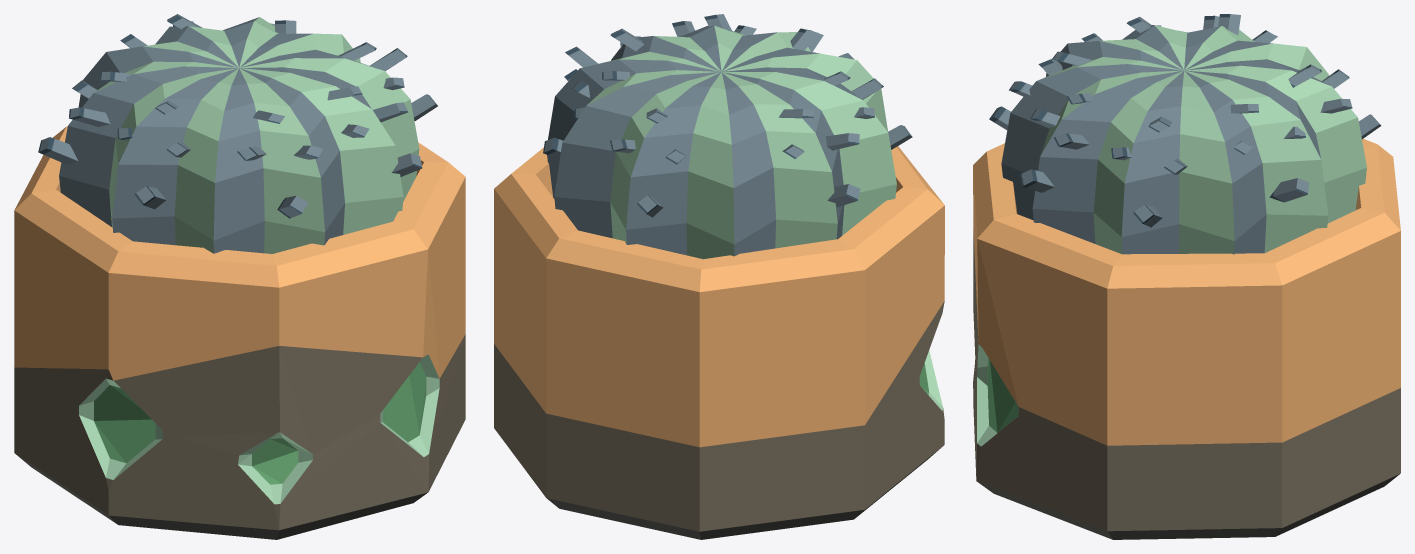
File: CajaPequeña5.FBX
The picture shows the model from 3 angles, left to right: view 1: azimuth 30°, elevation 25°; view 2: azimuth 150°, elevation 25°; view 3: azimuth 270°, elevation 25°; orthographic projection.
Visible parts, largest first — view 1: cactus; view 2: cactus; view 3: cactus.
Part boxes in pixels (x1,y1,x2,y2): cactus: (14, 14, 465, 539); cactus: (494, 14, 944, 539); cactus: (973, 14, 1400, 539).
Bounding box in the file's own units: 99.85 × 99.24 × 99.89.
1 material, 1 textured.
